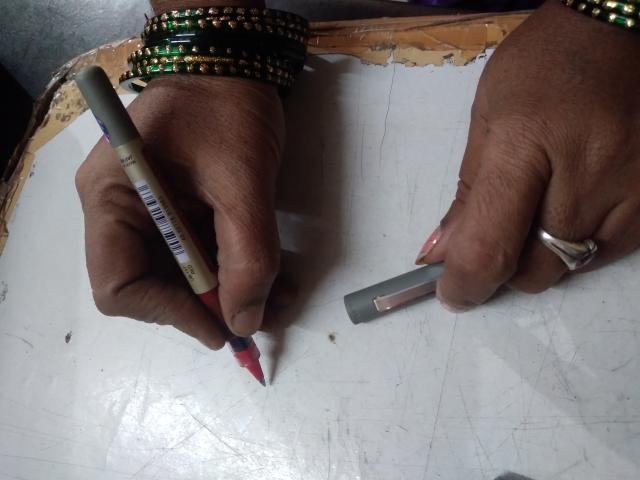PEN: (79, 45, 403, 476)
